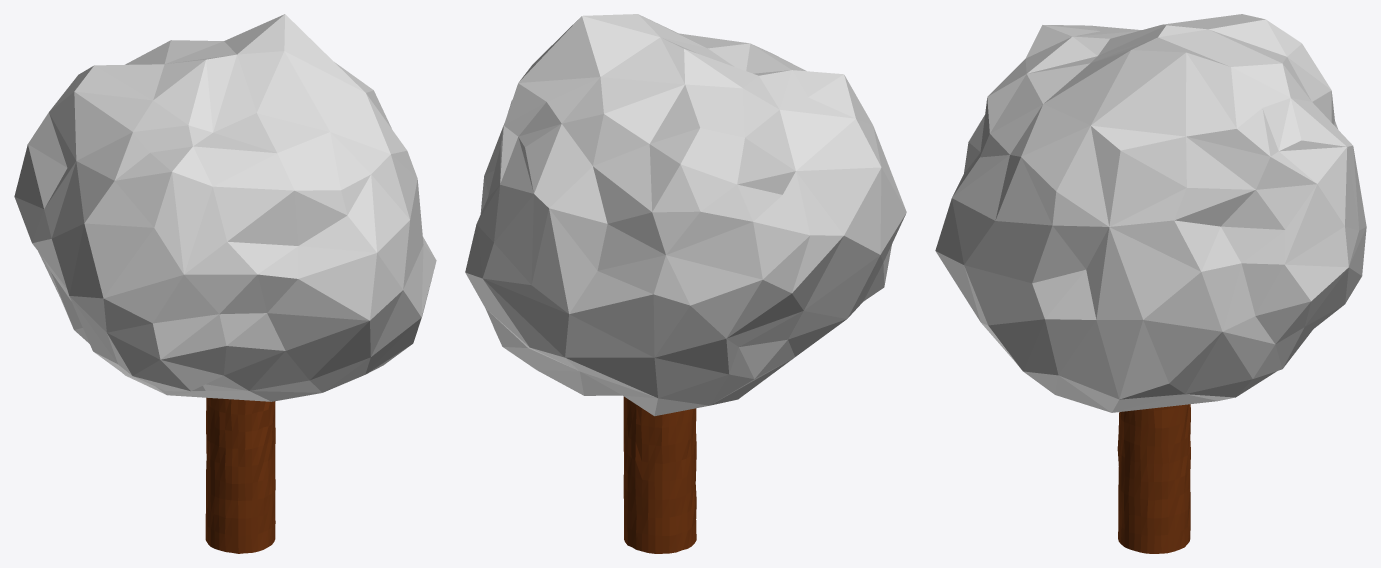
The model's file is tree4.fbx.
The picture shows the model from 3 angles, left to right: view 1: azimuth 30°, elevation 25°; view 2: azimuth 150°, elevation 25°; view 3: azimuth 270°, elevation 25°; orthographic projection. The views are drawn at different scales.
Visible parts, largest first — view 1: Cube, Cylinder.002; view 2: Cube, Cylinder.002; view 3: Cube, Cylinder.002.
Boxes of the visible parts, x1,y1,x2,y2 form: Cube: (14,14,436,401); Cylinder.002: (205,397,275,553); Cube: (465,14,906,416); Cylinder.002: (623,396,696,553); Cube: (935,14,1366,412); Cylinder.002: (1117,404,1190,553).
Bounding box in the file's own units: 163 × 220 × 166.
